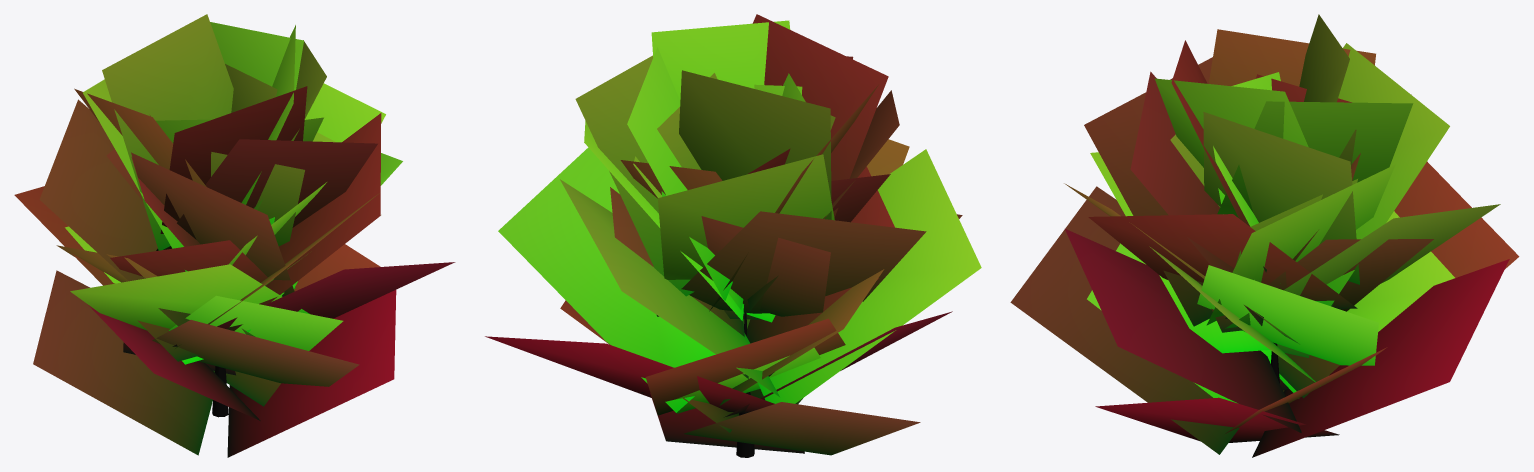
Rendered from Bush_1_3.fbx.
3 views of the same model, side by side, from view 1: azimuth 30°, elevation 25°; view 2: azimuth 150°, elevation 25°; view 3: azimuth 270°, elevation 25° (orthographic). The views are drawn at different scales.
Parts seen in each view (by area): view 1: Bush_1_3; view 2: Bush_1_3; view 3: Bush_1_3.
Boxes of the visible parts, x1=… form: Bush_1_3: x1=14, y1=14, x2=455, y2=457; Bush_1_3: x1=485, y1=14, x2=981, y2=457; Bush_1_3: x1=1010, y1=14, x2=1519, y2=457.
Bounding box in the file's own units: 416 × 428 × 482.
